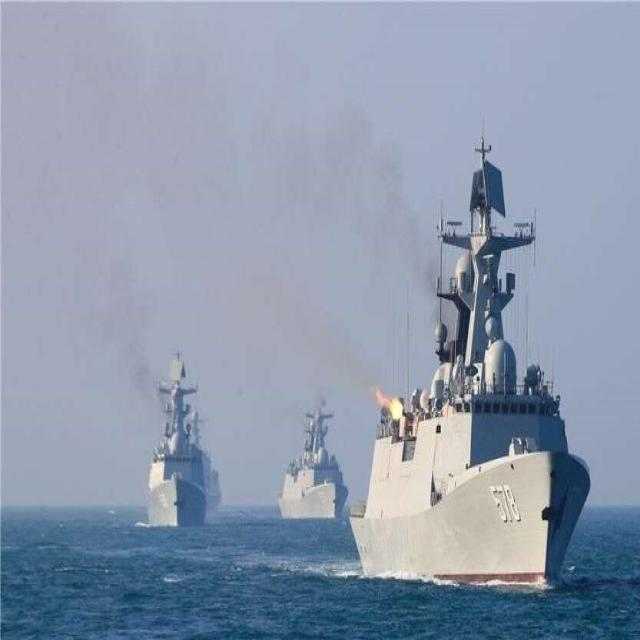navalvessels: (337, 146, 602, 591), (136, 353, 217, 528), (272, 350, 351, 516)
